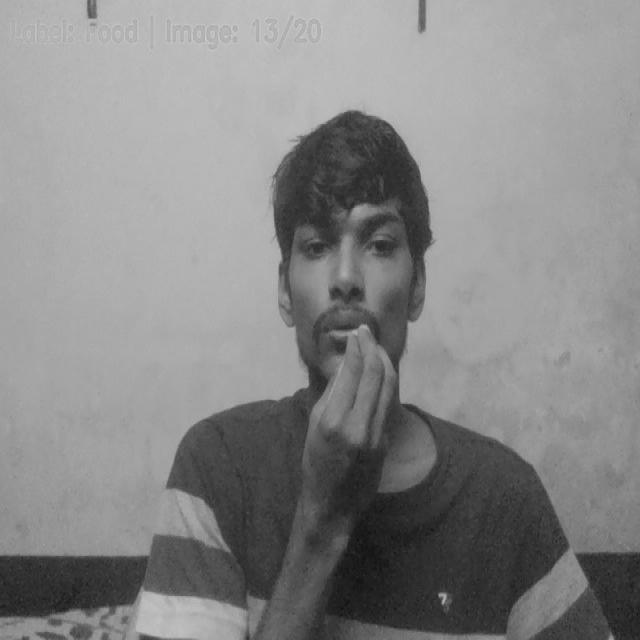Food: (290, 324, 410, 525)
